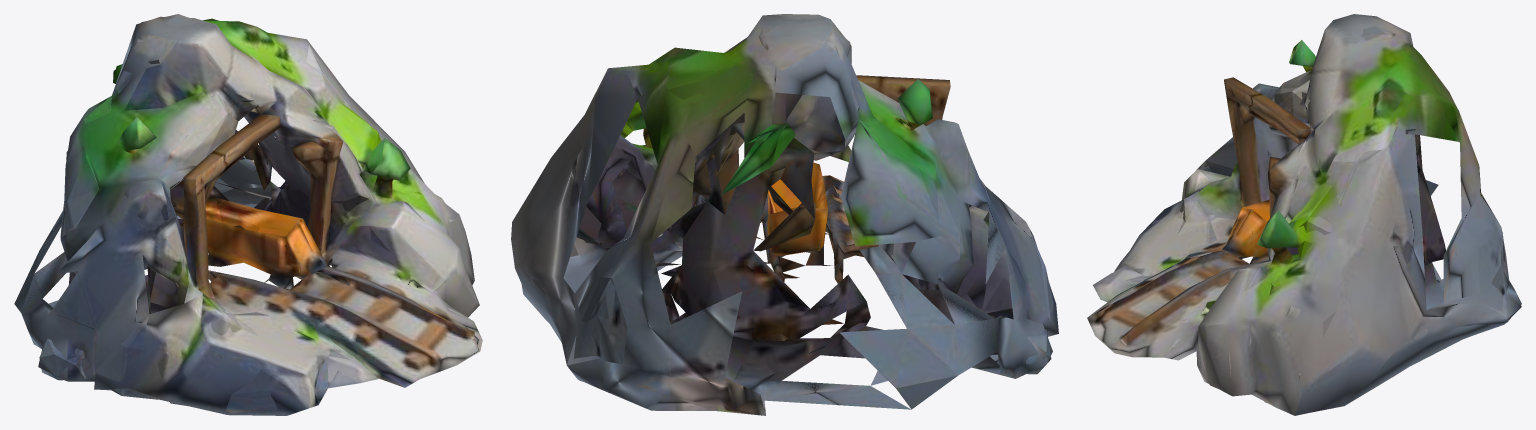
File: mine.glb
The picture shows the model from 3 angles, left to right: view 1: azimuth 30°, elevation 25°; view 2: azimuth 150°, elevation 25°; view 3: azimuth 270°, elevation 25°; orthographic projection. The views are drawn at different scales.
Visible parts, largest first — view 1: level; view 2: level; view 3: level.
Part boxes in pixels (<box>): level: <box>14,14,482,415</box>; level: <box>511,14,1058,415</box>; level: <box>1087,14,1521,415</box>.
Size of the model in its own units: 0.9194 by 0.5866 by 0.8513.
Materials: 1 (1 with a texture image).
